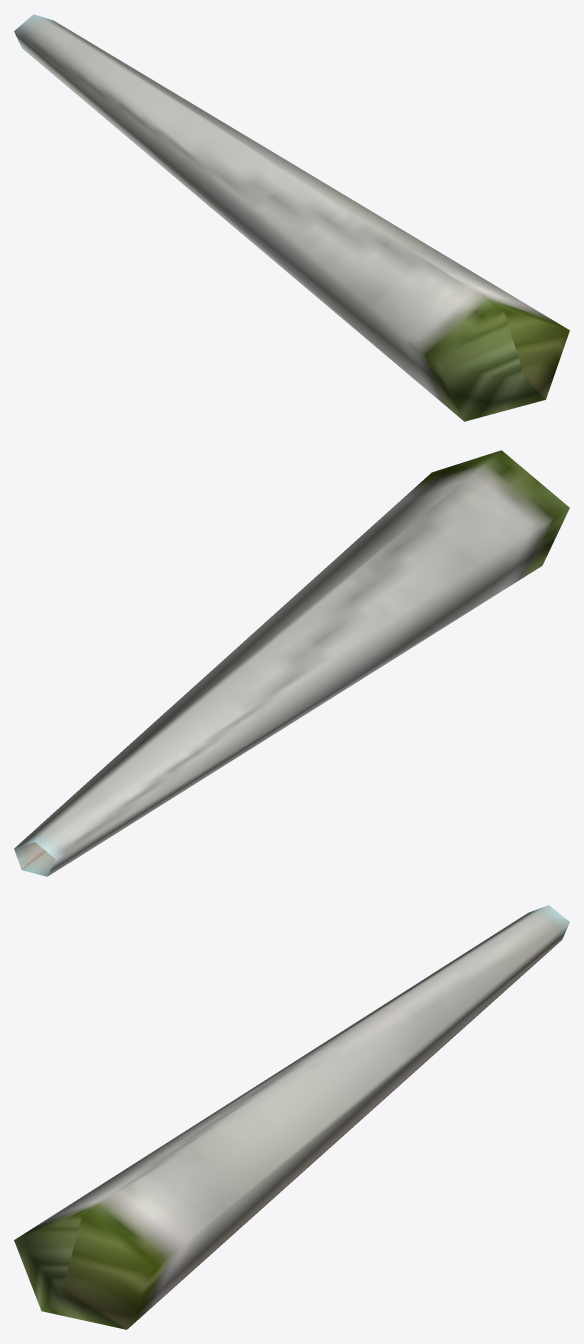
The model's file is ITMI_JOINT.glb.
The picture shows the model from 3 angles, top to bottom: view 1: azimuth 30°, elevation 25°; view 2: azimuth 150°, elevation 25°; view 3: azimuth 330°, elevation 25°; orthographic projection. The views are drawn at different scales.
Visible parts, largest first — view 1: Mesh; view 2: Mesh; view 3: Mesh.
Part boxes in pixels (x1,y1,x2,y2): Mesh: (14,14,569,421); Mesh: (14,450,569,876); Mesh: (14,905,569,1329).
Bounding box in the file's own units: 0.0299 × 0.022 × 0.1876.
Materials: 1 (1 with a texture image).
